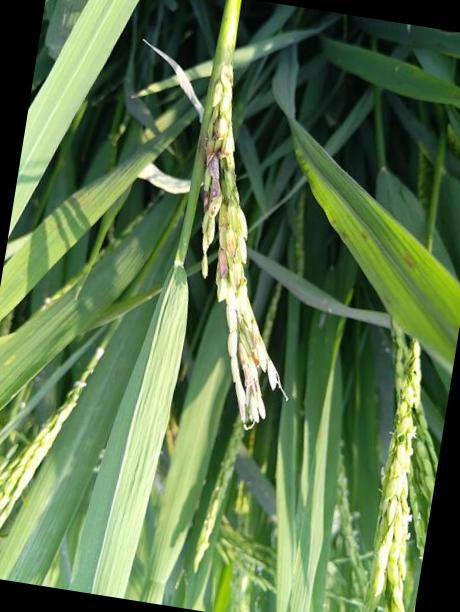Panicle Blight: (247, 316, 266, 356), (208, 155, 221, 200), (220, 122, 236, 158), (212, 114, 229, 141), (216, 248, 229, 282), (226, 226, 239, 258), (205, 139, 218, 169), (229, 264, 244, 289), (208, 198, 222, 218), (238, 351, 249, 368), (203, 192, 211, 213)
